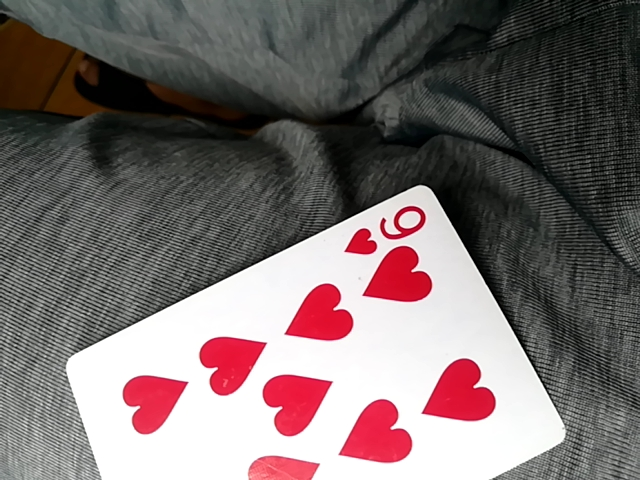hx 9: (65, 178, 568, 479)
